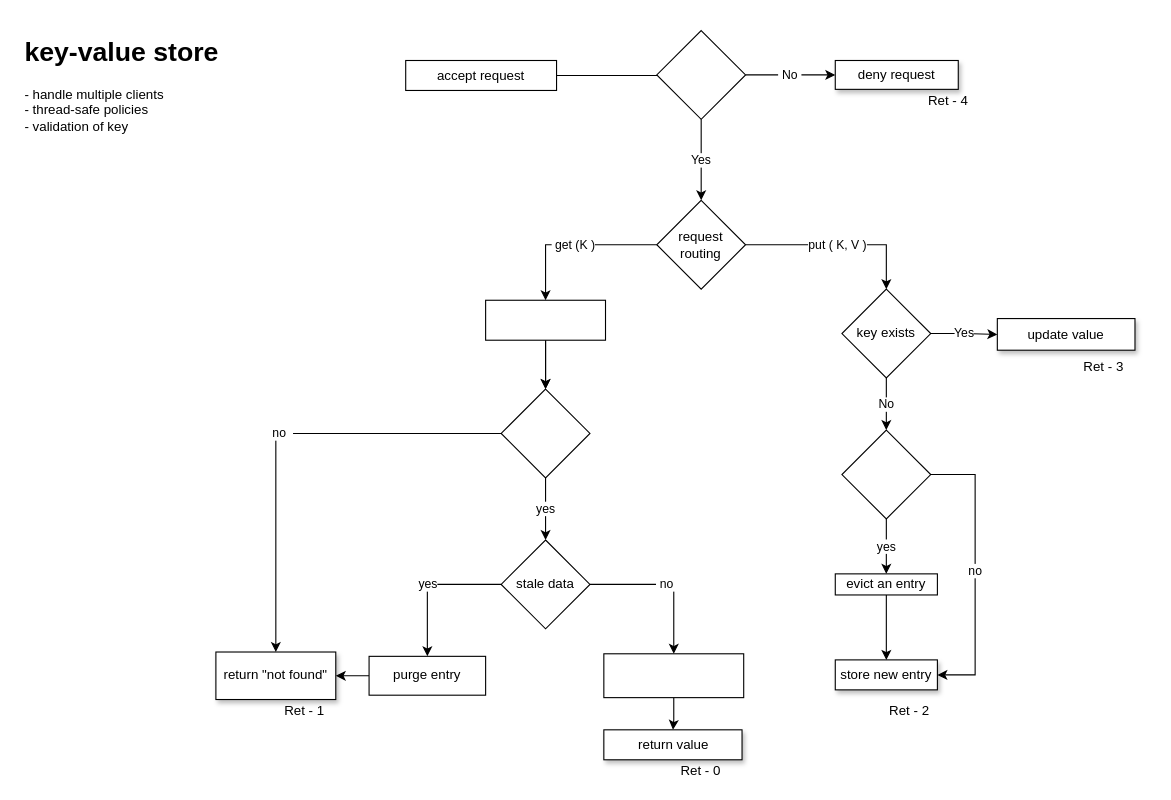
The diagram is 1171 pixels wide and 800 high, and some of its shapes have lost their labels. Here are the shapes that lost their labels. From the top down, the centre of each, then its label:
the point at 701,74: valid key
the point at 545,319: Search key in cache storage
the point at 545,433: cache hit
the point at 886,474: cache full
the point at 673,675: move the key to front
